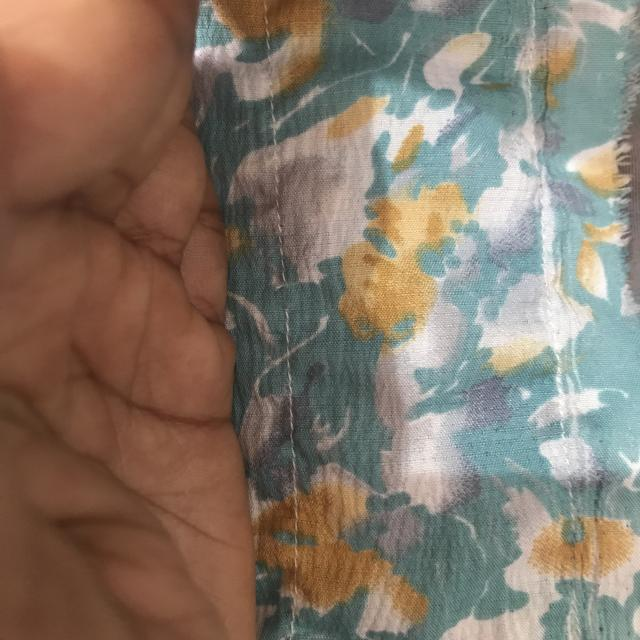broken: (257, 268, 302, 322)
